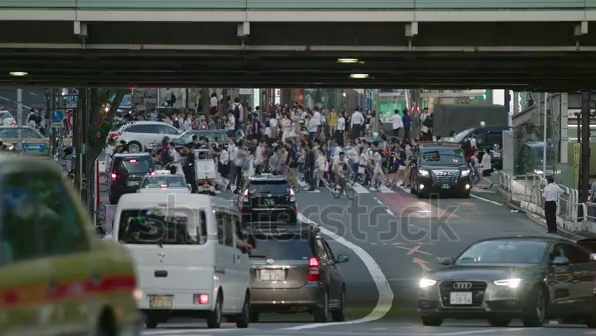licenseplate: (447, 291, 484, 307), (147, 294, 174, 307), (260, 272, 284, 286)
